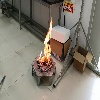fire: (39, 17, 53, 67)
